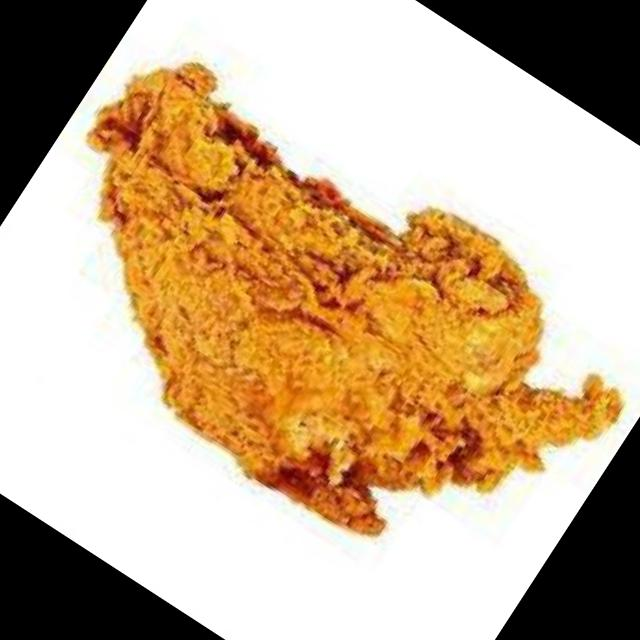Fried Chicken: (86, 60, 622, 536)
